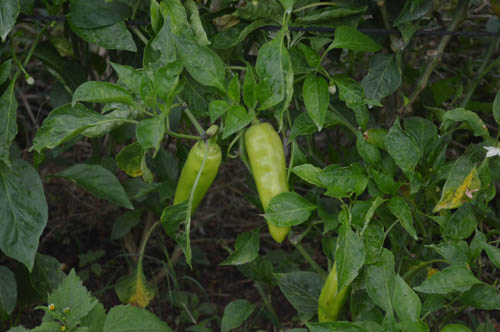ChiliPepper: (238, 124, 300, 250), (161, 133, 226, 235), (311, 239, 361, 332)
